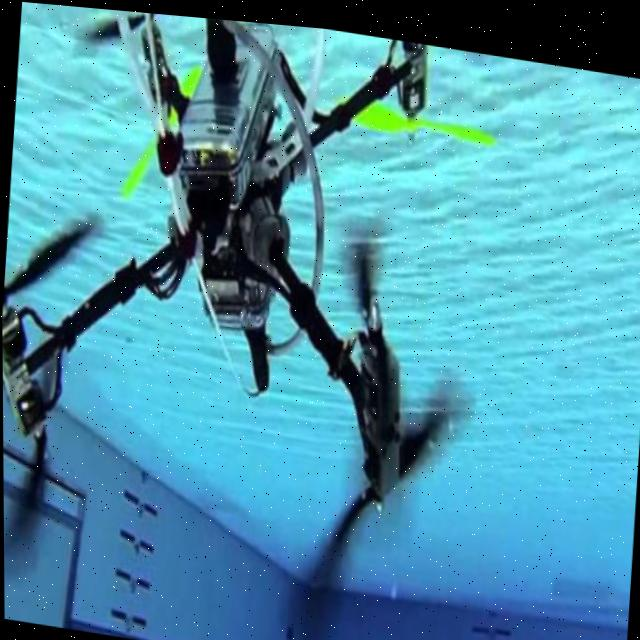drones: (0, 0, 525, 640)
